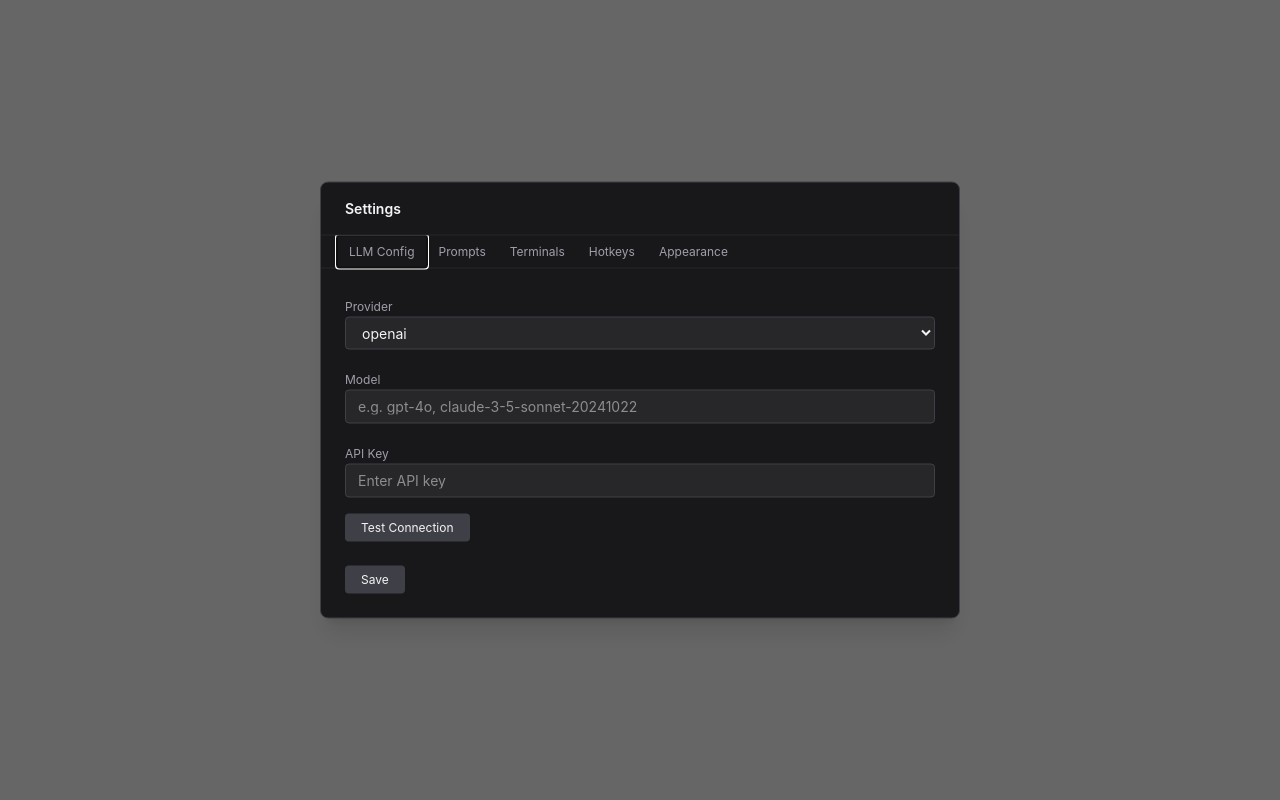
Scenario: SettingsDialog › clicking Terminals tab switches to terminals panel
This screenshot has width=1280, height=800.
Click the tab "Terminals".
click(537, 252)  # box [498, 236, 577, 268]
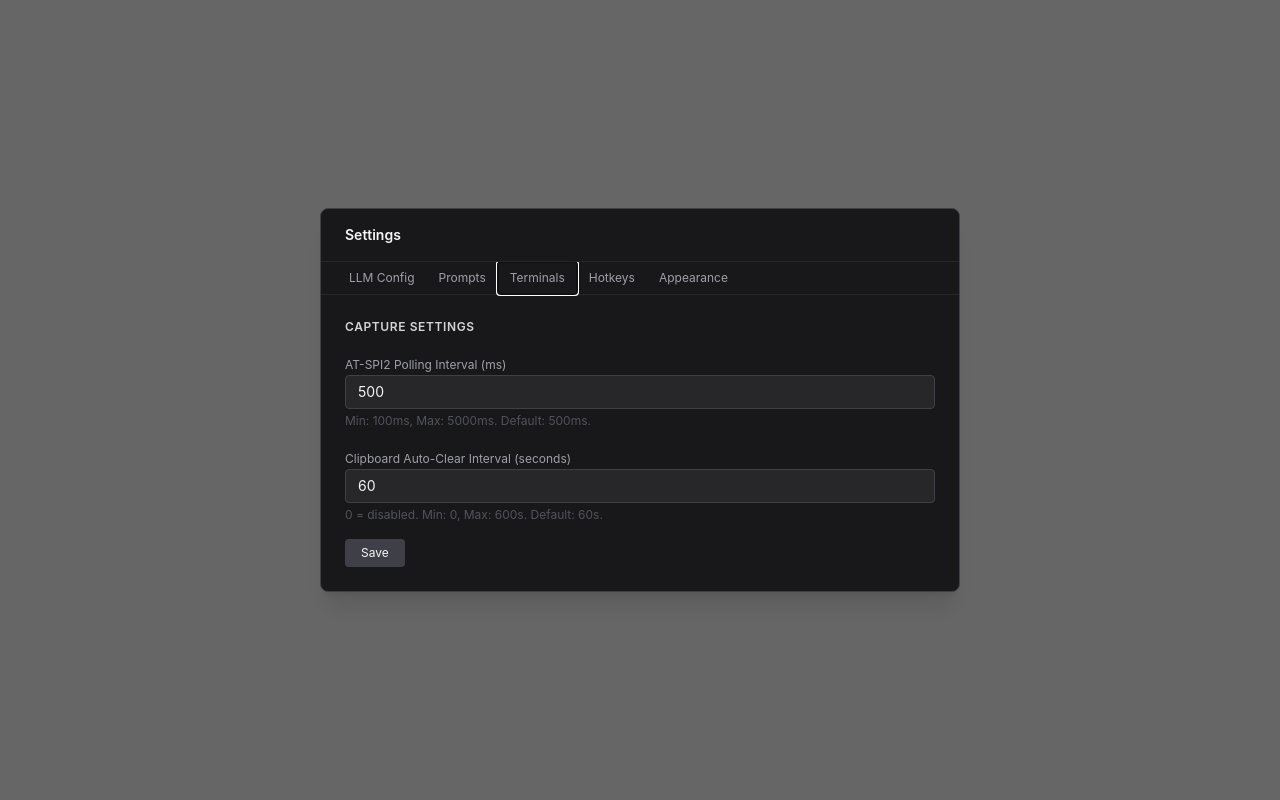
Check: the heading "Capture Settings" is shown, box [345, 319, 475, 334]
